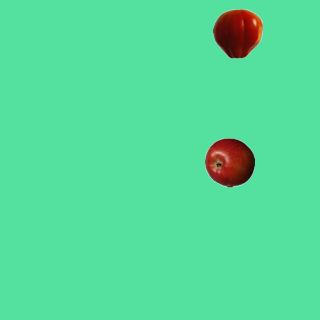Apple Braeburn: (204, 137, 254, 187)
Tomato 1: (212, 8, 262, 58)
